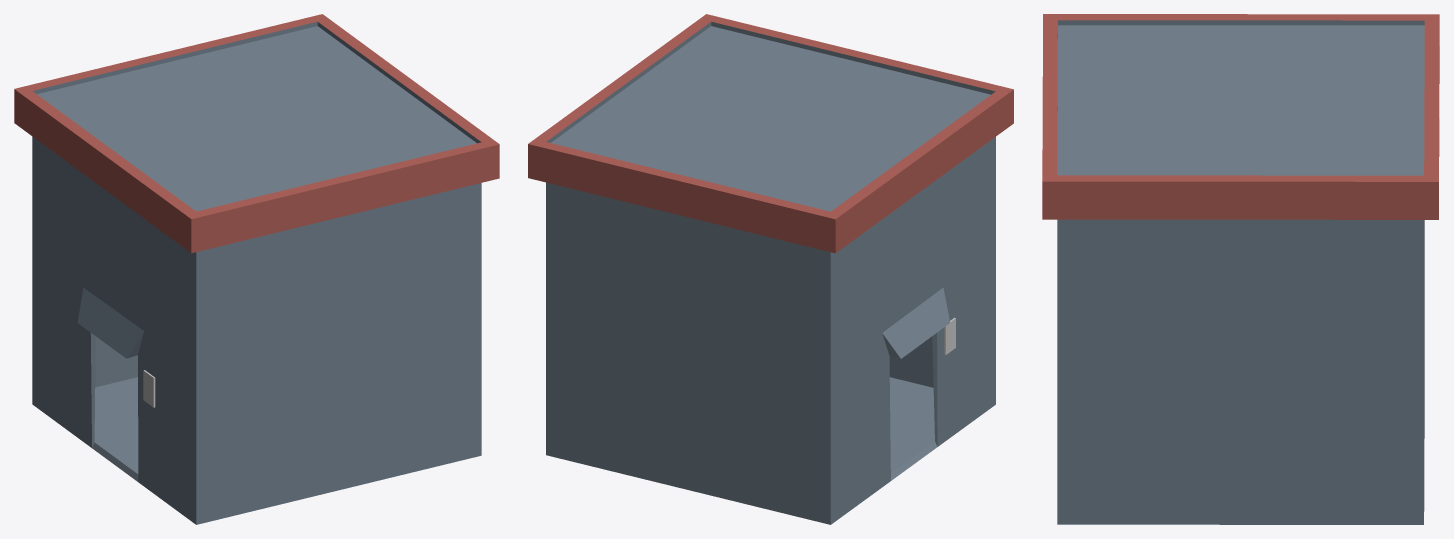
The model's file is StorageExport.fbx.
The picture shows the model from 3 angles, left to right: view 1: azimuth 30°, elevation 25°; view 2: azimuth 150°, elevation 25°; view 3: azimuth 270°, elevation 25°; orthographic projection. The views are drawn at different scales.
Parts seen in each view (by area): view 1: StorageHouse.001; view 2: StorageHouse.001; view 3: StorageHouse.001.
Part boxes in pixels (box(x1,y1,x2,y2)): StorageHouse.001: box(14, 14, 499, 524); StorageHouse.001: box(528, 14, 1013, 524); StorageHouse.001: box(1042, 14, 1439, 524).
Bounding box in the file's own units: 580 × 561 × 579.
